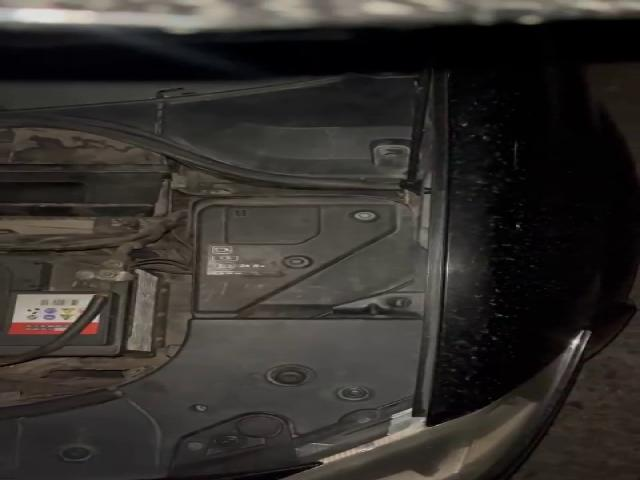accumulator: (2, 256, 170, 359)
fuse_box: (195, 201, 412, 311)
